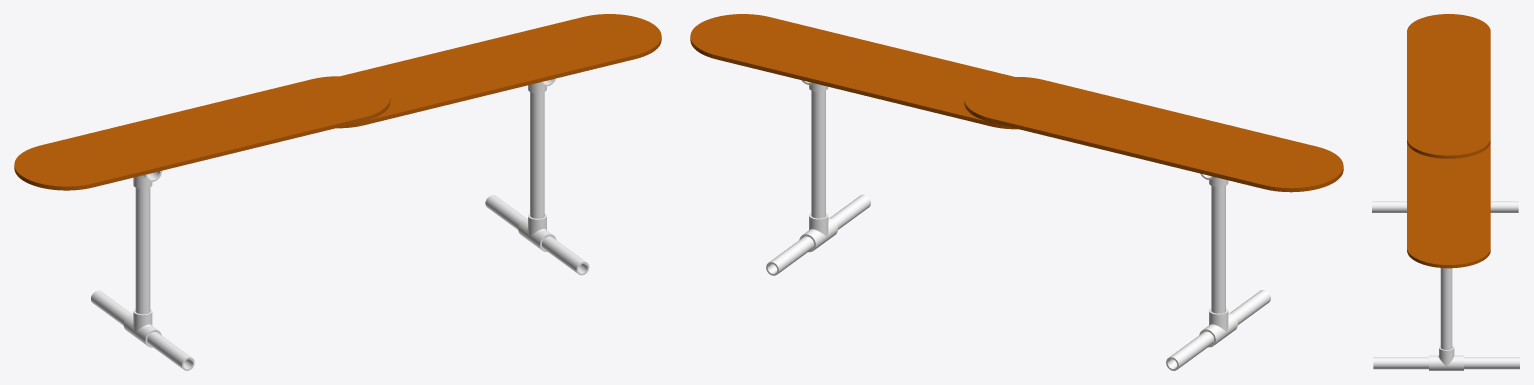
File: path_marker.dae
3 views of the same model, side by side, from view 1: azimuth 30°, elevation 25°; view 2: azimuth 150°, elevation 25°; view 3: azimuth 270°, elevation 25° (orthographic). The views are drawn at different scales.
Visible parts, largest first — view 1: Path Marker; view 2: Path Marker; view 3: Path Marker.
Boxes of the visible parts, x1,y1,x2,y2 form: Path Marker: (14,14,661,370); Path Marker: (690,14,1343,370); Path Marker: (1372,14,1519,370).
Bounding box in the file's own units: 1.07 × 0.2688 × 0.3105.
